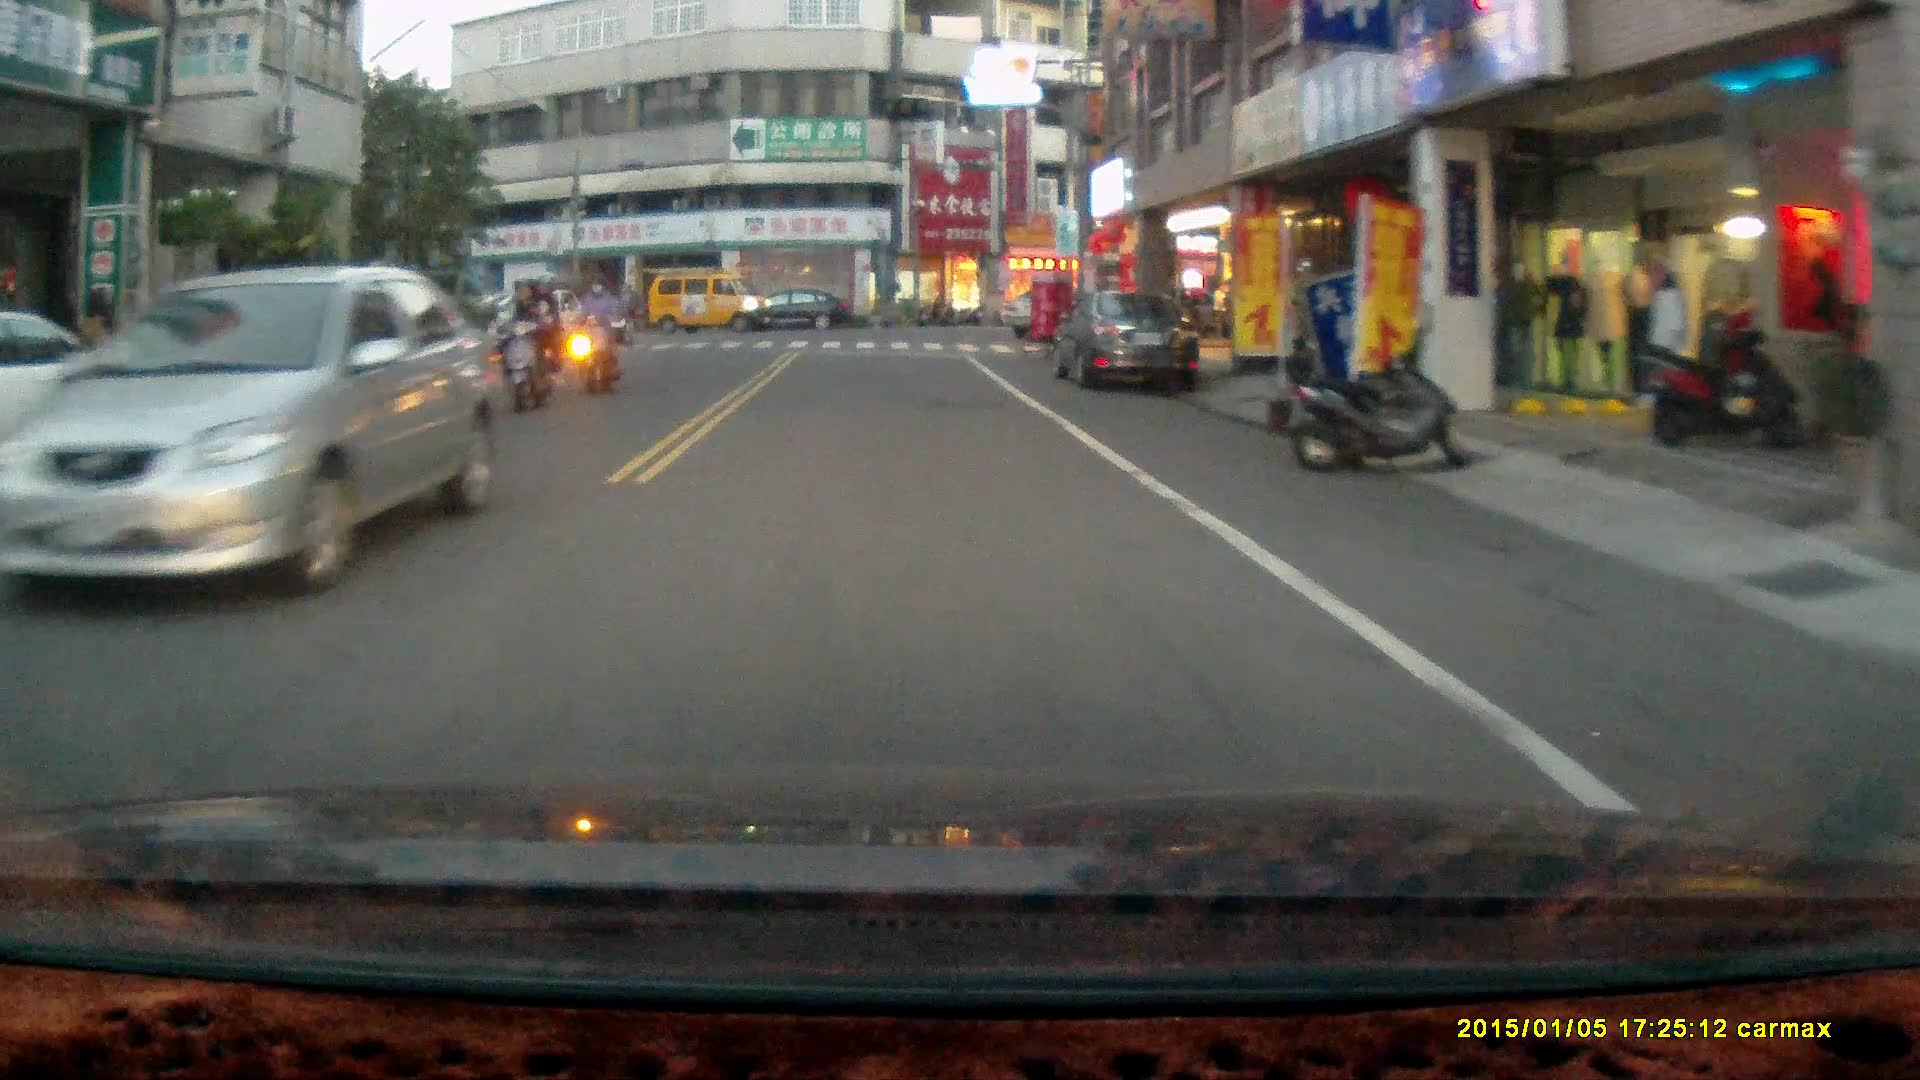pedestrian: (56, 286, 121, 450)
rider: (495, 271, 564, 417), (572, 272, 622, 398)
vehicle: (121, 270, 478, 630), (1040, 284, 1208, 403), (642, 264, 777, 337), (736, 290, 855, 335)
